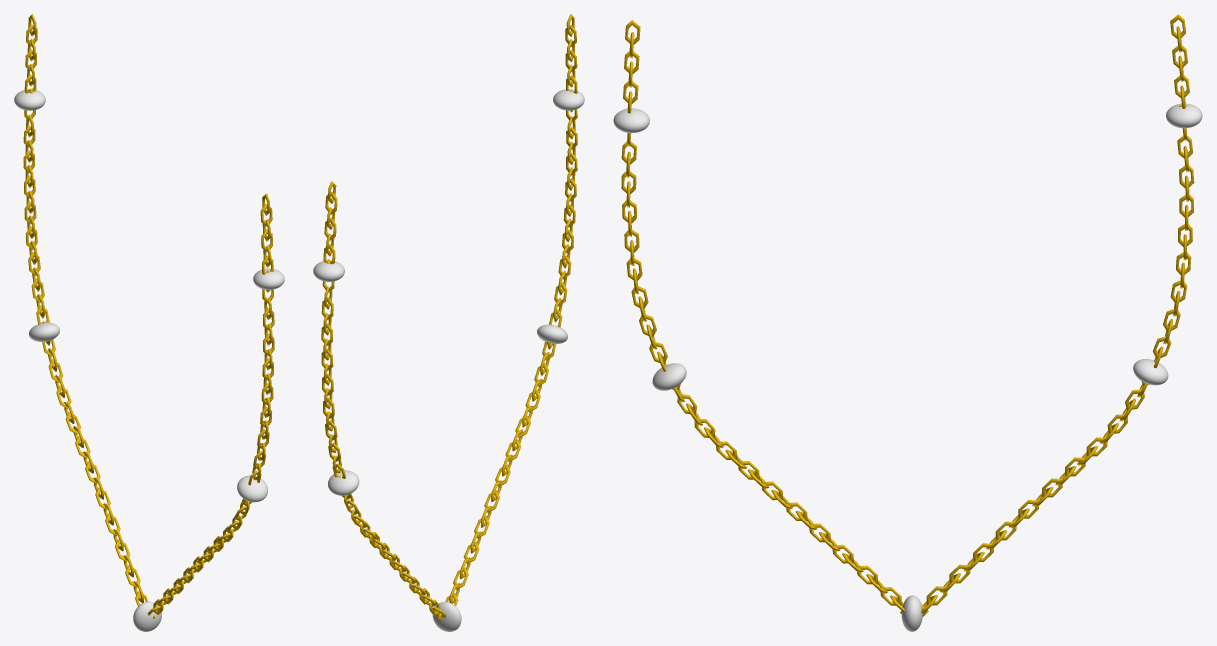
Rendered from necklace.glb.
The picture shows the model from 3 angles, left to right: view 1: azimuth 30°, elevation 25°; view 2: azimuth 150°, elevation 25°; view 3: azimuth 270°, elevation 25°; orthographic projection. The views are drawn at different scales.
Parts seen in each view (by area): view 1: Torus.051, Sphere; view 2: Torus.051, Sphere; view 3: Torus.051, Sphere.
Part boxes in pixels (x1,y1,x2,y2): Torus.051: (23, 14, 274, 618); Sphere: (14, 89, 284, 631); Torus.051: (321, 14, 577, 621); Sphere: (313, 89, 584, 631); Torus.051: (621, 14, 1194, 616); Sphere: (613, 103, 1202, 631).
Bounding box in the file's own units: 0.0248 × 0.4597 × 0.3984.
